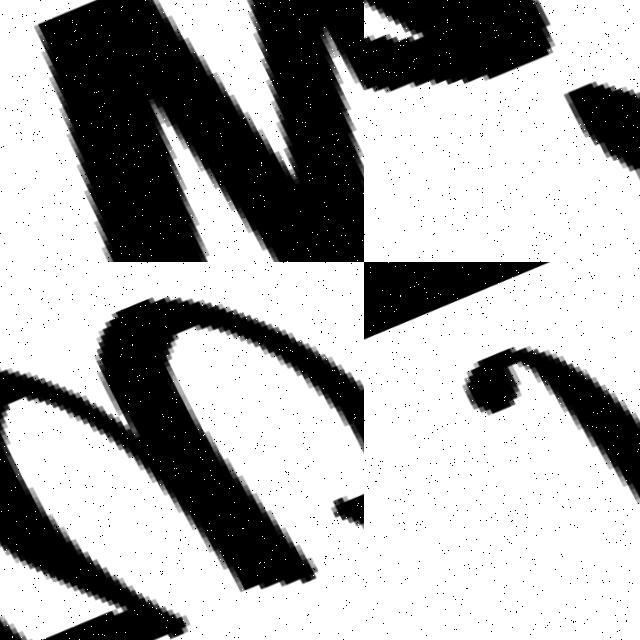I: (364, 0, 640, 262)
J: (436, 264, 640, 640)
W: (0, 262, 364, 640), (0, 0, 364, 262)
